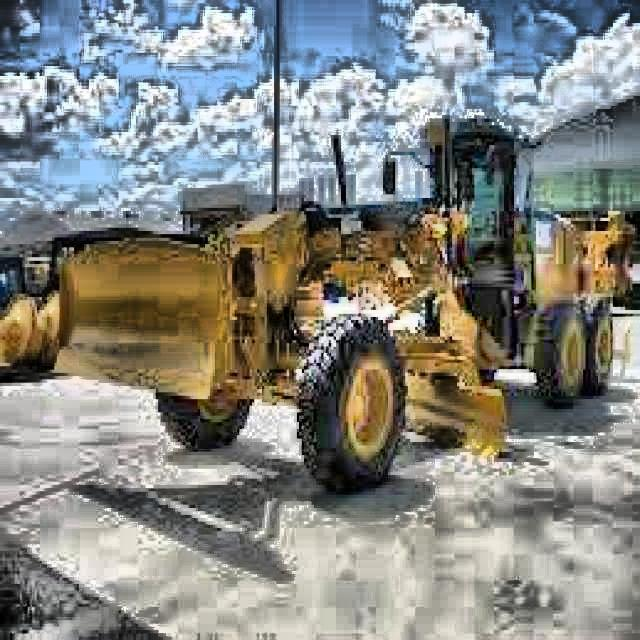bull_dozer/loader/grader: (46, 110, 628, 508)
person: (472, 159, 504, 220)
